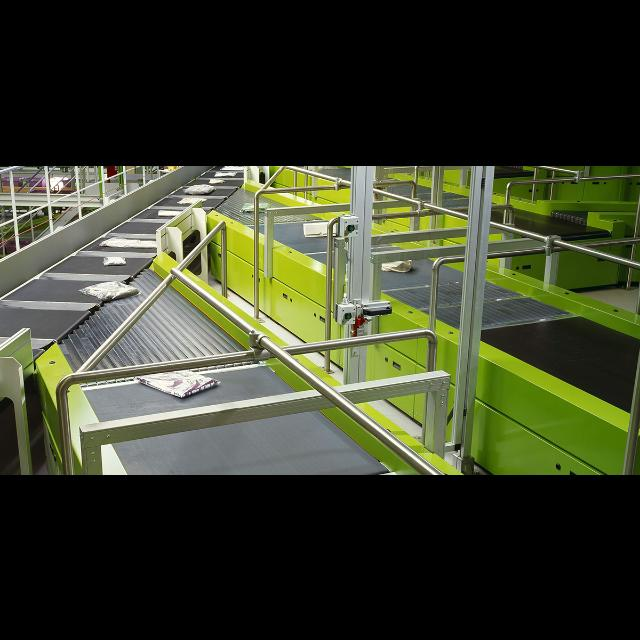box: (304, 220, 336, 236)
mailer: (139, 368, 219, 398), (81, 282, 139, 302), (102, 236, 158, 248), (186, 184, 214, 194), (241, 202, 269, 212), (105, 254, 125, 266), (157, 208, 180, 218), (179, 195, 205, 203), (215, 170, 235, 176), (210, 179, 222, 183)
